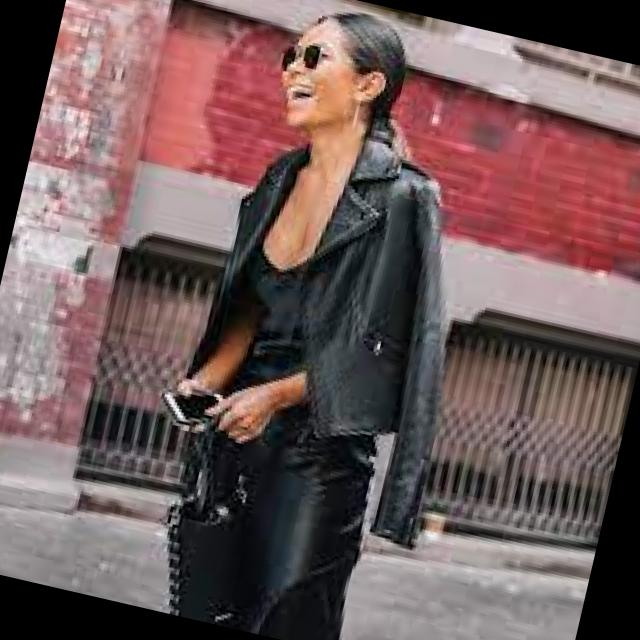Jacket: (99, 77, 523, 578)
